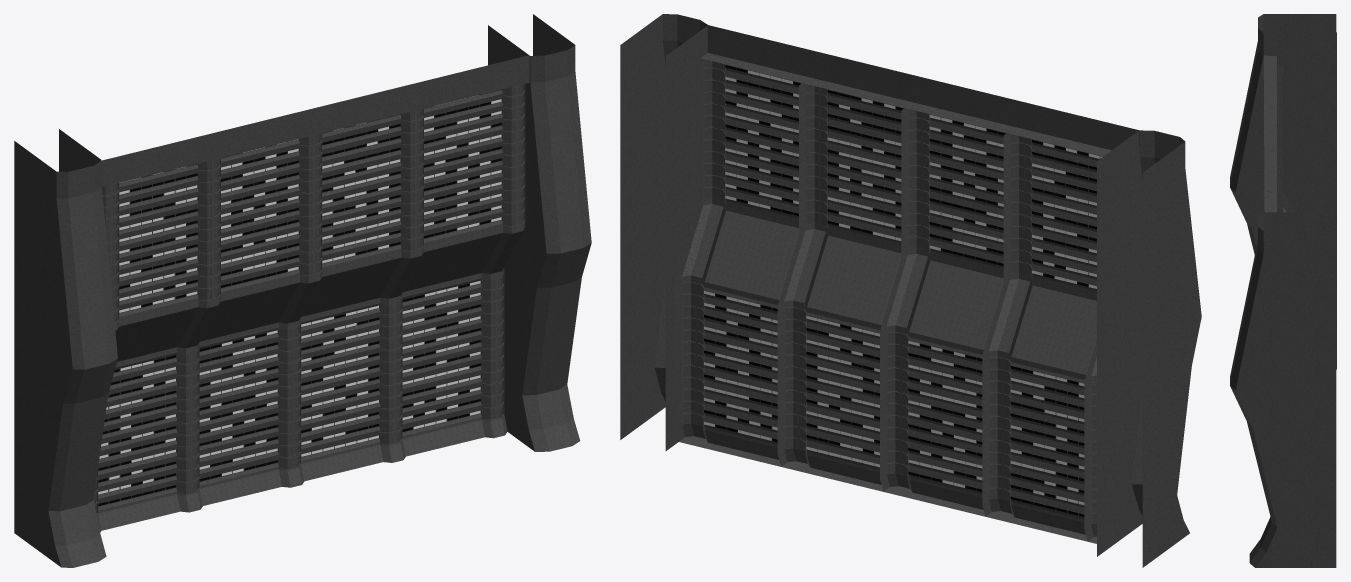
Rendered from Megastructures2.fbx.
3 views of the same model, side by side, from view 1: azimuth 30°, elevation 25°; view 2: azimuth 150°, elevation 25°; view 3: azimuth 270°, elevation 25° (orthographic). The views are drawn at different scales.
Visible parts, largest first — view 1: Модуль.001; view 2: Модуль.001; view 3: Модуль.001.
Part boxes in pixels (x1,y1,x2,y2): Модуль.001: [14, 14, 591, 567]; Модуль.001: [620, 14, 1201, 567]; Модуль.001: [1230, 14, 1336, 567].
Bounding box in the file's own units: 18400 × 13319 × 3825.
